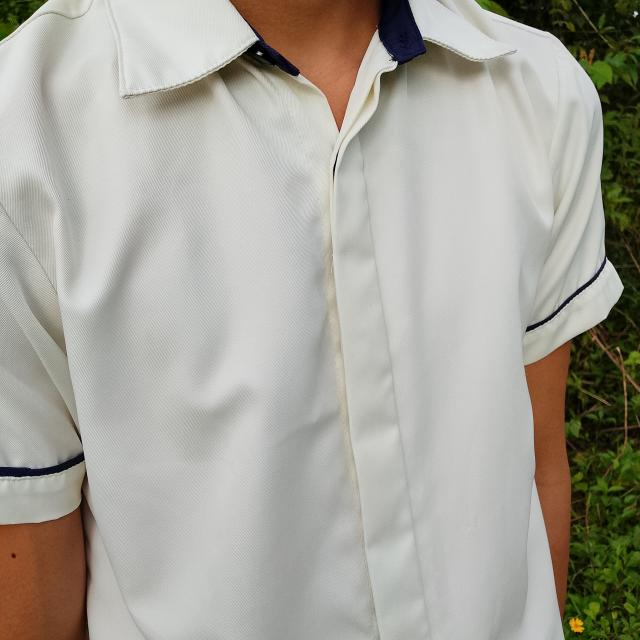education_male_uniform: (0, 0, 615, 575)
